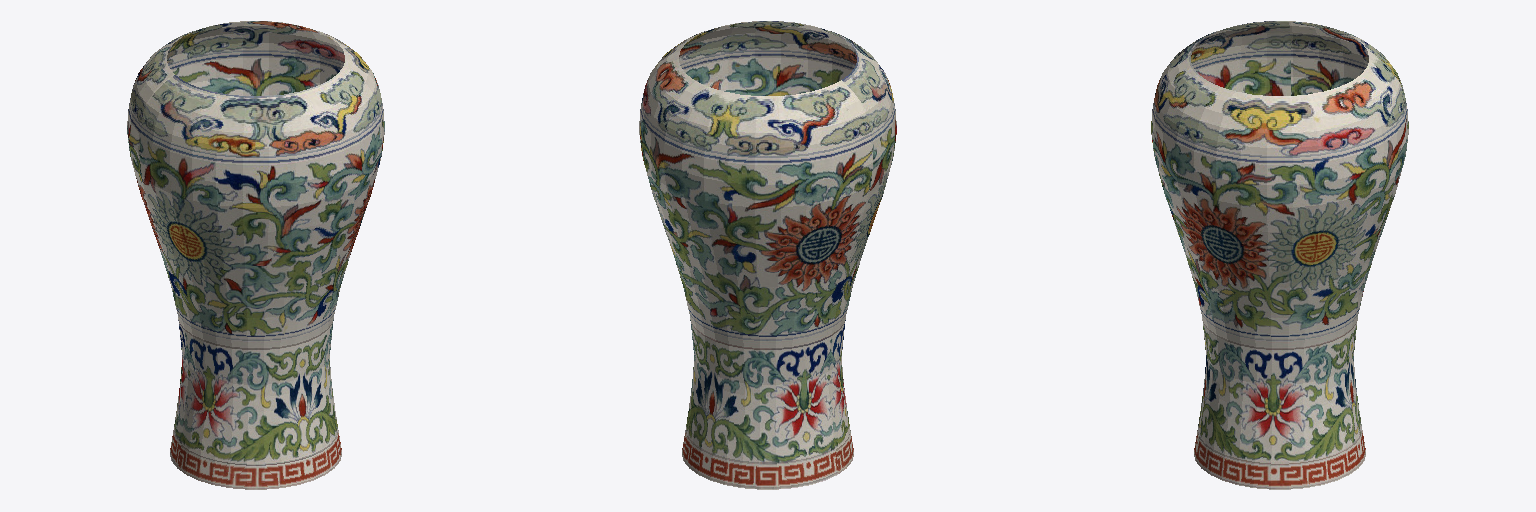
3 views of the same model, side by side, from view 1: azimuth 30°, elevation 25°; view 2: azimuth 150°, elevation 25°; view 3: azimuth 270°, elevation 25° (orthographic).
Parts seen in each view (by area): view 1: Line01; view 2: Line01; view 3: Line01.
Part boxes in pixels (bbox=[...]): Line01: bbox=[127, 21, 384, 489]; Line01: bbox=[639, 21, 896, 489]; Line01: bbox=[1151, 21, 1408, 489].
Size of the model in its own units: 91.29 by 155 by 91.79.
Materials: 1 (1 with a texture image).